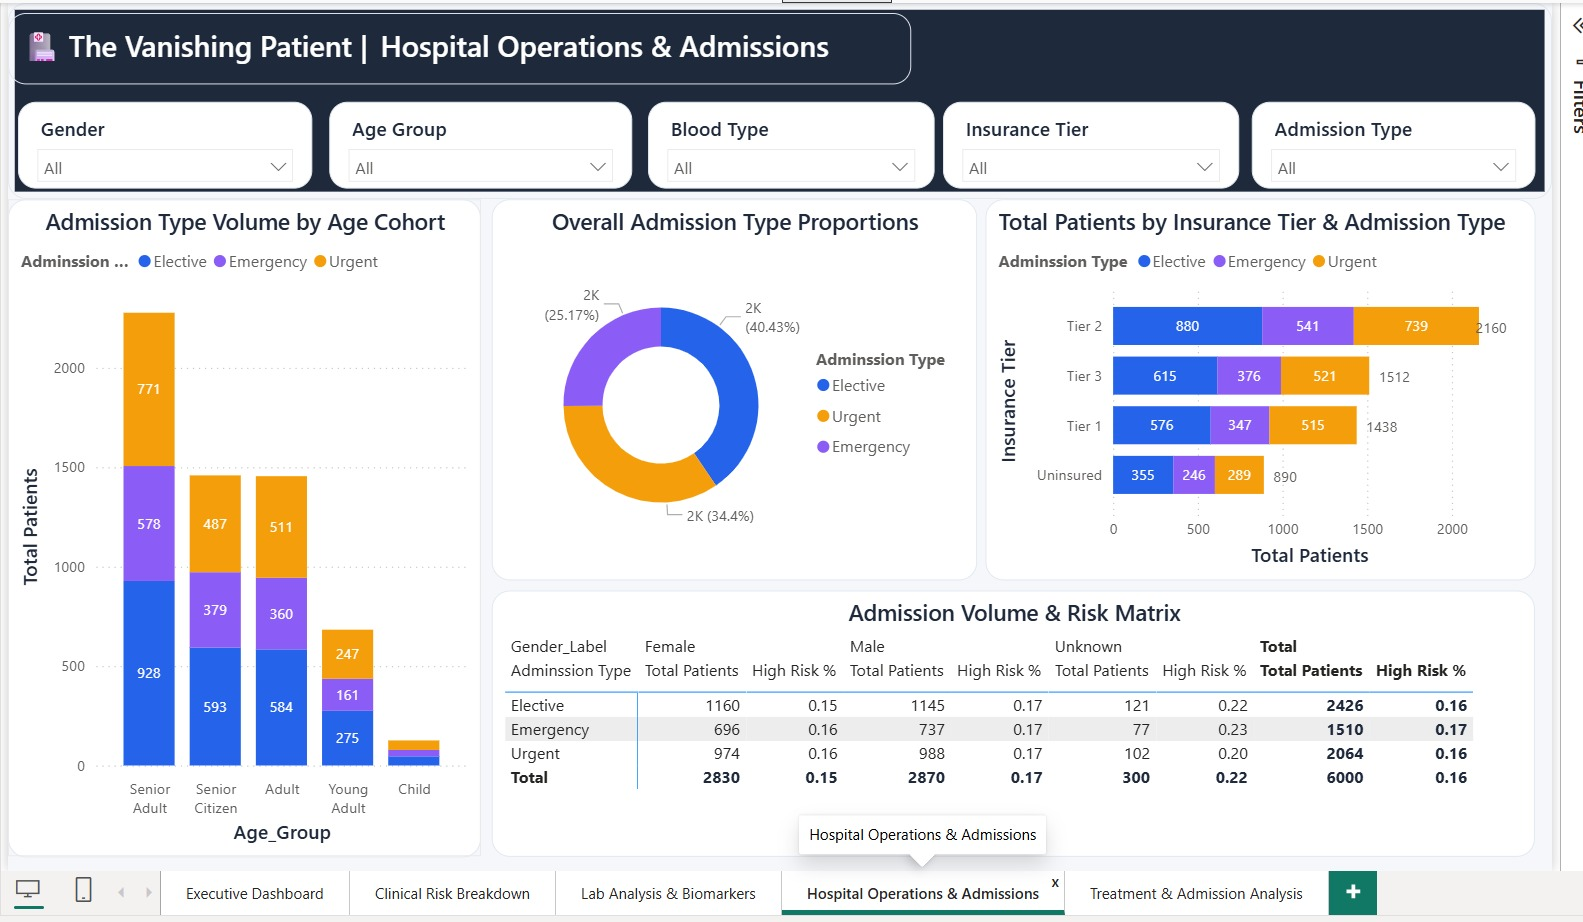

Layout of this report page (visuals, bound fields, positions):
{"tool":"powerbi","page":{"name":"Hospital Operations & Admissions","canvas":[1280,720],"ordinal":3},"visuals":[{"type":"shape","box":[0,0,1280.2,162.8],"z":0},{"type":"textbox","box":[0,8.1,748.8,59.3],"z":1000},{"type":"slicer","fields":{"Values":["train_feature_engineered.Gender_Label"]},"box":[8.1,81.4,244.2,72.1],"z":1001},{"type":"slicer","fields":{"Values":["train_feature_engineered.Age_Group"]},"box":[266.3,81.4,251.2,72.1],"z":1002},{"type":"slicer","fields":{"Values":["train_feature_engineered.blood Type"]},"box":[530.2,81.4,237.2,72.1],"z":1003},{"type":"slicer","fields":{"Values":["train_feature_engineered.Insurance Tier"]},"box":[775.6,81.4,245.3,72.1],"z":1004},{"type":"slicer","fields":{"Values":["train_feature_engineered.Adminssion Type"]},"box":[1031.4,81.4,234.9,72.1],"z":1005},{"type":"columnChart","title":"Admission Type Volume by Age Cohort","fields":{"Category":["train_feature_engineered.Age_Group"],"Series":["train_feature_engineered.Adminssion Type"],"Y":["train_feature_engineered.Total Patients"]},"box":[0,162.8,391.9,545.4],"z":1006},{"type":"donutChart","title":"Overall Admission Type Proportions","fields":{"Category":["train_feature_engineered.Adminssion Type"],"Y":["train_feature_engineered.Total Patients"]},"box":[401,162.7,402.1,316.1],"z":1007},{"type":"barChart","title":"Total Patients by Insurance Tier & Admission Type","fields":{"Category":["train_feature_engineered.Insurance Tier"],"Series":["train_feature_engineered.Adminssion Type"],"Y":["train_feature_engineered.Total Patients"]},"box":[810.4,162.7,456,316.1],"z":1008},{"type":"pivotTable","title":"Admission Volume & Risk Matrix","fields":{"Rows":["train_feature_engineered.Adminssion Type"],"Columns":["train_feature_engineered.Gender_Label"],"Values":["train_feature_engineered.Total Patients","train_feature_engineered.High Risk %"]},"box":[401.2,487.2,865.1,220.9],"z":1009}]}

Visuals, with their boxes on the page's 1280x720 design canvas (x1, y1, x2, y2). These are canvas units, not pixel positions in the 1583x922 screenshot, which may show the page scaled, cropped or inside an application window:
shape: rect(0, 0, 1280, 163)
textbox: rect(0, 8, 749, 67)
slicer - train_feature_engineered.Gender_Label: rect(8, 81, 252, 154)
slicer - train_feature_engineered.Age_Group: rect(266, 81, 518, 154)
slicer - train_feature_engineered.blood Type: rect(530, 81, 767, 154)
slicer - train_feature_engineered.Insurance Tier: rect(776, 81, 1021, 154)
slicer - train_feature_engineered.Adminssion Type: rect(1031, 81, 1266, 154)
"Admission Type Volume by Age Cohort" columnChart: rect(0, 163, 392, 708)
"Overall Admission Type Proportions" donutChart: rect(401, 163, 803, 479)
"Total Patients by Insurance Tier & Admission Type" barChart: rect(810, 163, 1266, 479)
"Admission Volume & Risk Matrix" pivotTable: rect(401, 487, 1266, 708)
